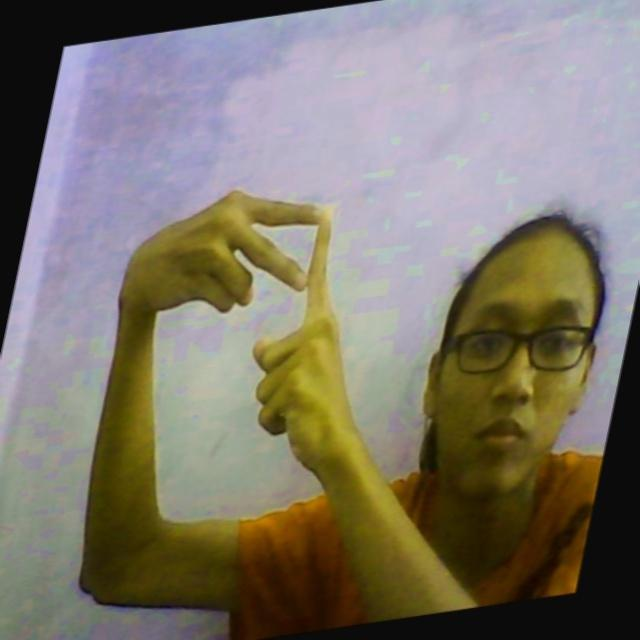P: (215, 166, 342, 437)
